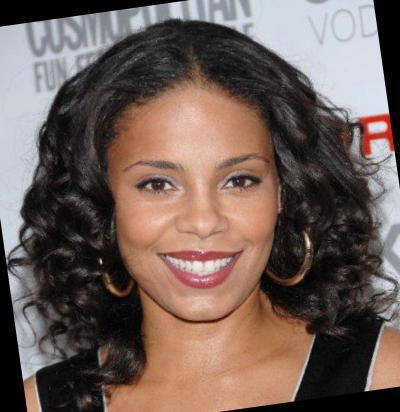Sober: (120, 106, 275, 301)
